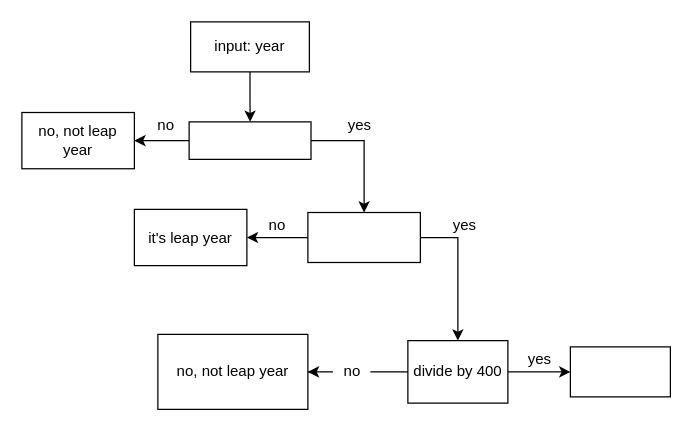
This 693x431 diagram has some shape labels left out. The centre of each missing label's shape, as x and y in pixels:
"divide by 100" goes at [363,236].
"divide by 4?" goes at [249,140].
"yes, leap year" goes at [619,371].
